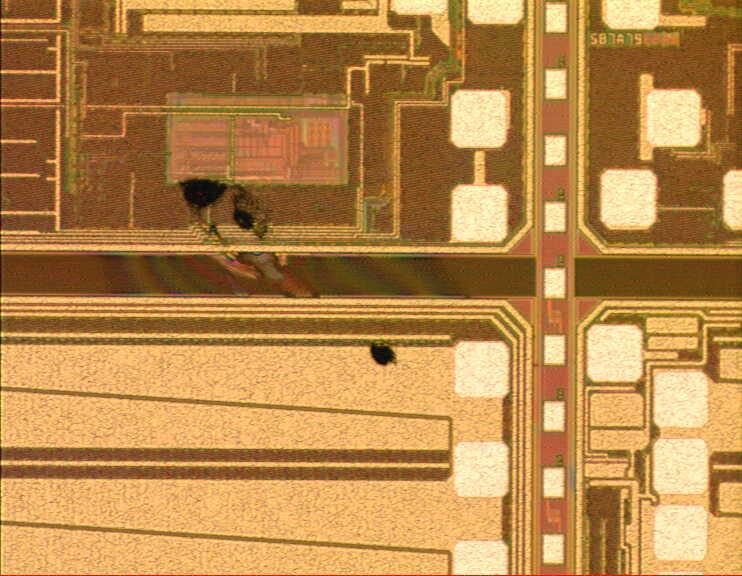SCRATCH: (171, 162, 413, 371)
